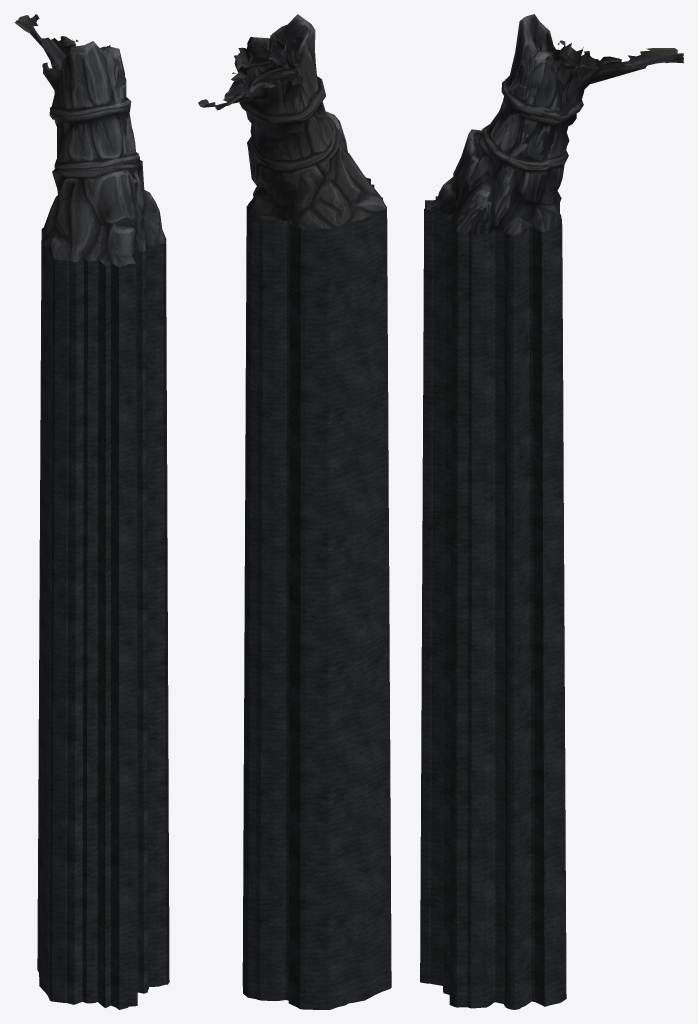
File: horaro_rock_pillar_1_lod0.glb
3 views of the same model, side by side, from view 1: azimuth 30°, elevation 25°; view 2: azimuth 150°, elevation 25°; view 3: azimuth 270°, elevation 25° (orthographic). The views are drawn at different scales.
Parts seen in each view (by area): view 1: horaro_rock_pillar_1_L0_foundation, horaro_rock_pillar_1_lod0; view 2: horaro_rock_pillar_1_L0_foundation, horaro_rock_pillar_1_lod0; view 3: horaro_rock_pillar_1_L0_foundation, horaro_rock_pillar_1_lod0.
Part boxes in pixels (bbox=[...]): horaro_rock_pillar_1_L0_foundation: bbox=[37, 228, 169, 1009]; horaro_rock_pillar_1_lod0: bbox=[14, 14, 166, 266]; horaro_rock_pillar_1_L0_foundation: bbox=[242, 178, 391, 1009]; horaro_rock_pillar_1_lod0: bbox=[198, 14, 386, 229]; horaro_rock_pillar_1_L0_foundation: bbox=[420, 196, 566, 1009]; horaro_rock_pillar_1_lod0: bbox=[425, 14, 683, 236].
Size of the model in its own units: 1.99 by 15.42 by 3.81.
Materials: 2 (2 with a texture image).
